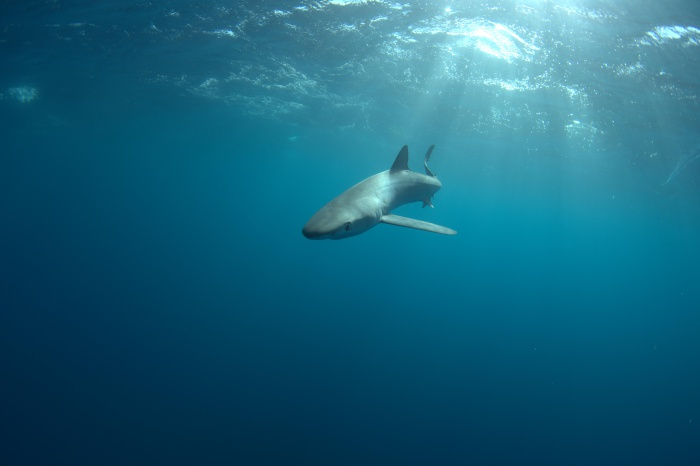Azul: (286, 137, 484, 251)
